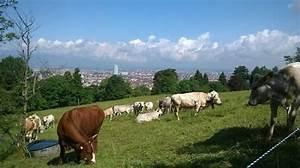cow: (247, 61, 299, 140), (56, 104, 104, 165), (169, 89, 222, 120), (19, 112, 42, 143), (42, 113, 55, 129)
